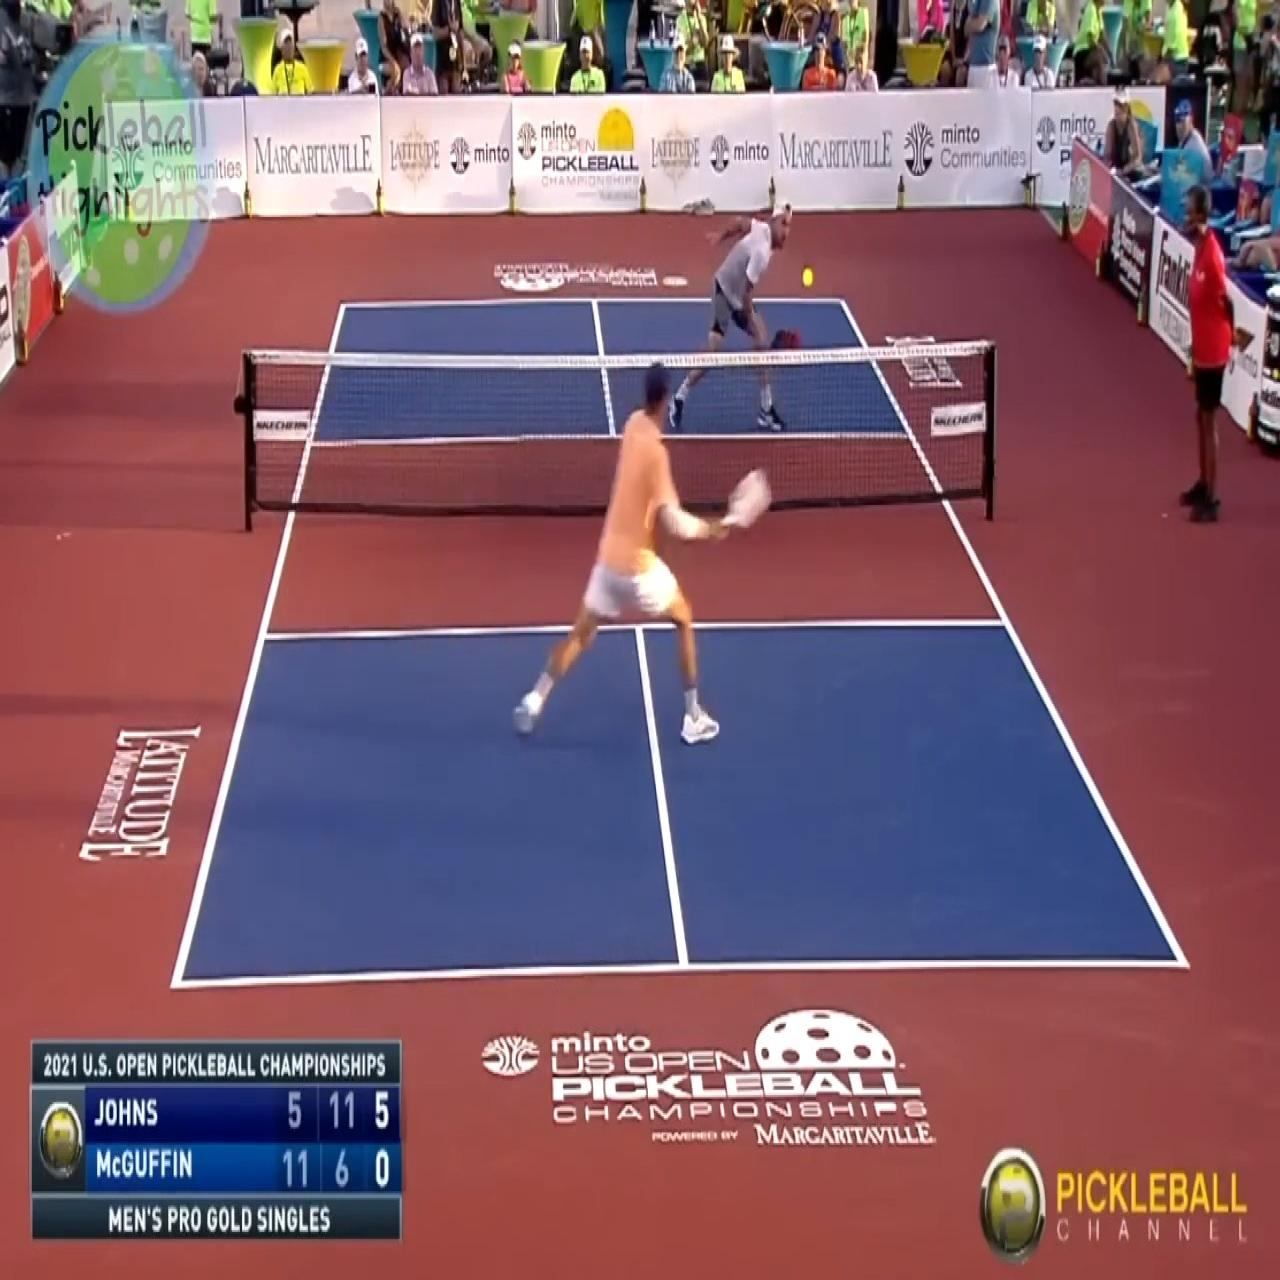pickleball: (802, 265, 813, 286)
